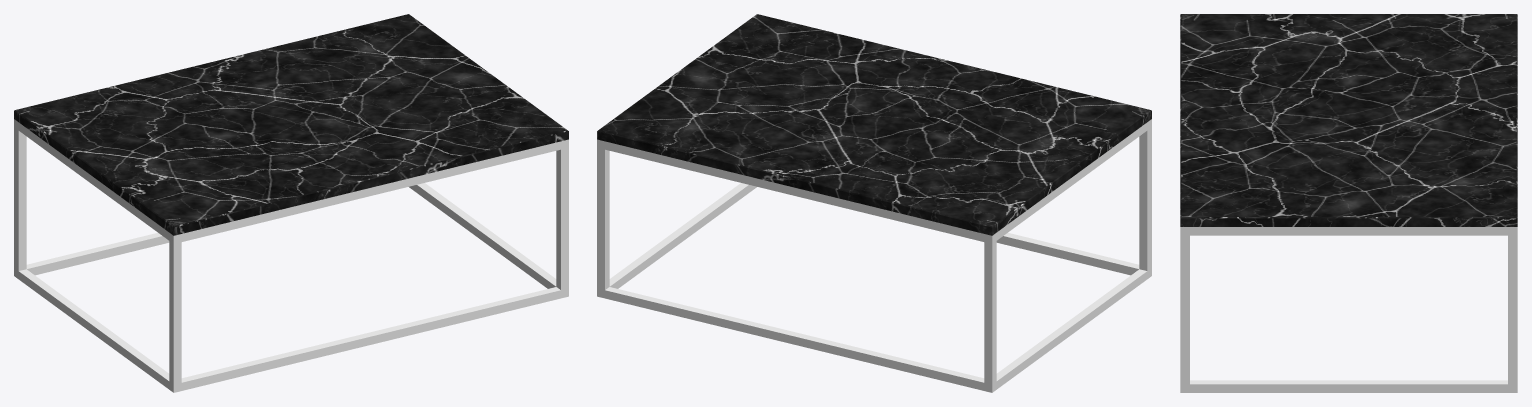
File: table4.glb
3 renders of one model, left to right at view 1: azimuth 30°, elevation 25°; view 2: azimuth 150°, elevation 25°; view 3: azimuth 270°, elevation 25°, orthographic. The views are drawn at different scales.
Parts seen in each view (by area): view 1: Material2 (×2); view 2: Material2 (×2); view 3: Material2 (×2).
Boxes of the visible parts, x1,y1,x2,y2 form: Material2 (×2): (14,14,568,392); Material2 (×2): (597,14,1151,392); Material2 (×2): (1180,14,1517,392).
Bounding box in the file's own units: 1.66 × 0.6678 × 1.16.
2 materials, 1 textured.
